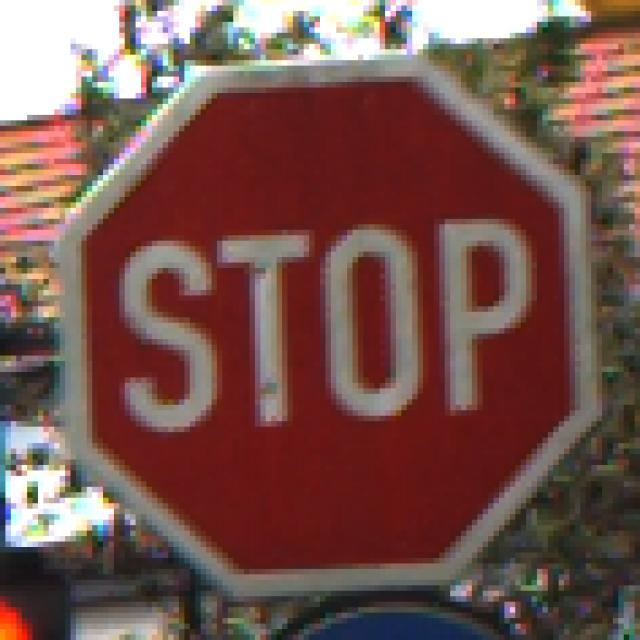STOP: (61, 56, 587, 586)
